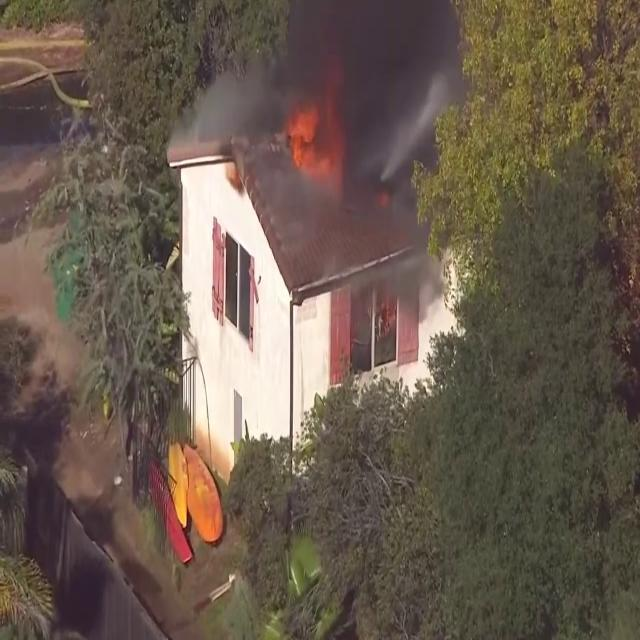Fire: (280, 94, 338, 180)
Smoke: (182, 1, 468, 198)
